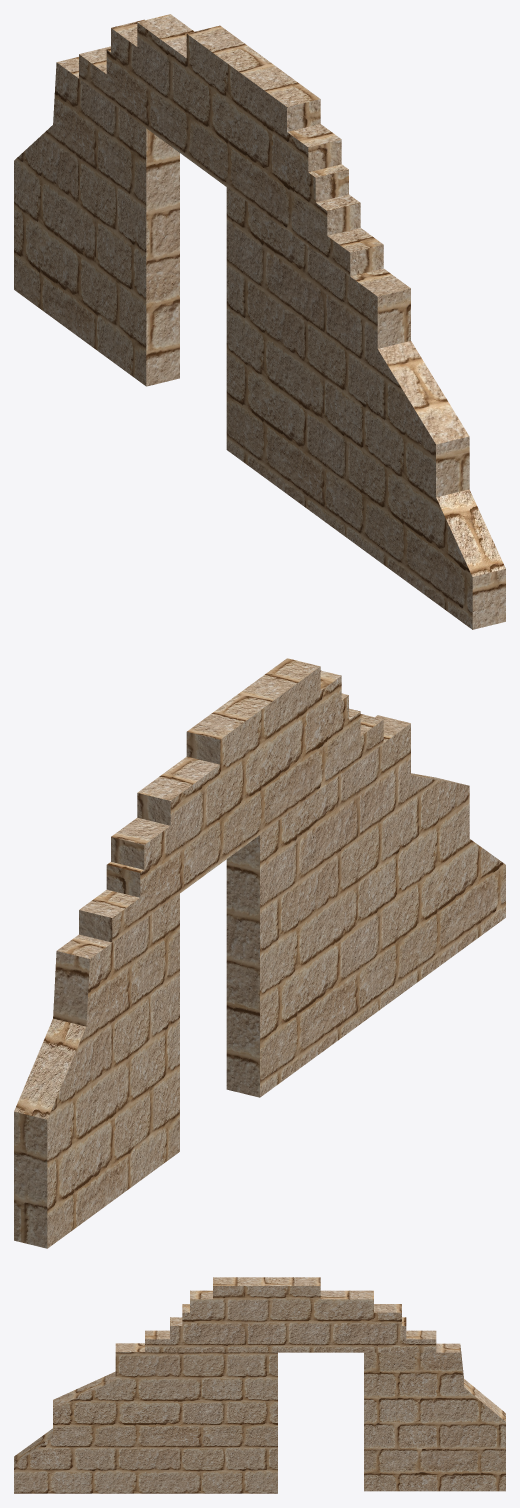
Rendered from cracked_wall.obj.
The picture shows the model from 3 angles, top to bottom: view 1: azimuth 30°, elevation 25°; view 2: azimuth 150°, elevation 25°; view 3: azimuth 270°, elevation 25°; orthographic projection. The views are drawn at different scales.
Parts seen in each view (by area): view 1: Cube_Cube.001; view 2: Cube_Cube.001; view 3: Cube_Cube.001.
Boxes of the visible parts, left/top/right/bottom form: Cube_Cube.001: left=14, top=14, right=505, bottom=629; Cube_Cube.001: left=14, top=658, right=505, bottom=1248; Cube_Cube.001: left=14, top=1277, right=505, bottom=1493.
Bounding box in the file's own units: 0.4072 × 4.51 × 9.68.
1 material, 1 textured.
